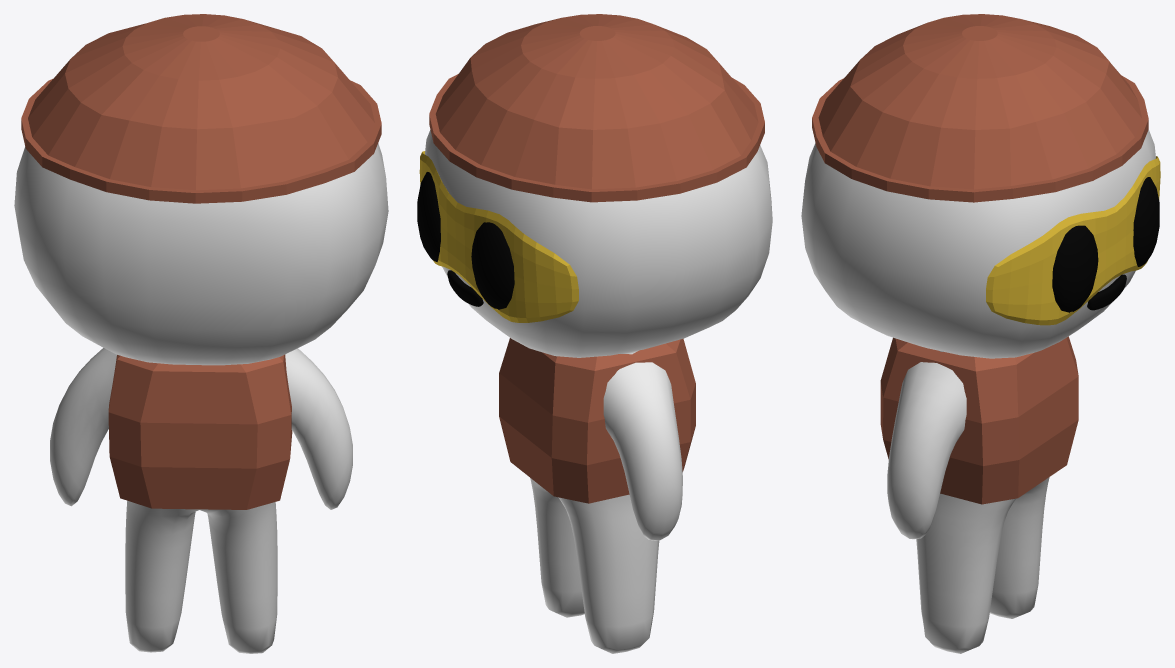
File: Ladrao 1.fbx
3 renders of one model, left to right at view 1: azimuth 30°, elevation 25°; view 2: azimuth 150°, elevation 25°; view 3: azimuth 270°, elevation 25°, orthographic. The views are drawn at different scales.
Visible parts, largest first — view 1: Boneco.005, Circle.001, Cube.015; view 2: Boneco.005, Circle.001, Cube.015, Plane.008, Olhos.005, Boca.005; view 3: Boneco.005, Circle.001, Cube.015, Plane.008, Olhos.005, Boca.005.
Part boxes in pixels (x1,y1,x2,y2): Boneco.005: [14, 143, 388, 653]; Circle.001: [21, 14, 381, 203]; Cube.015: [108, 354, 292, 509]; Boneco.005: [425, 130, 772, 653]; Circle.001: [429, 14, 764, 202]; Cube.015: [499, 338, 695, 503]; Plane.008: [419, 151, 578, 322]; Olhos.005: [417, 172, 514, 309]; Boca.005: [447, 270, 483, 306]; Boneco.005: [801, 129, 1155, 653]; Circle.001: [812, 14, 1148, 202]; Cube.015: [880, 336, 1078, 504]; Plane.008: [986, 156, 1160, 325]; Olhos.005: [1052, 177, 1159, 312]; Boca.005: [1087, 274, 1126, 310].
Bounding box in the file's own units: 141 × 248 × 135.
